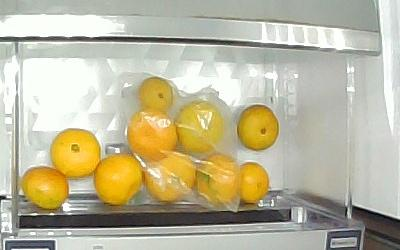tangerine: (50, 128, 101, 178), (94, 153, 142, 205), (19, 166, 69, 211), (237, 104, 280, 152), (237, 162, 271, 204)
tangerine_vinyl: (127, 109, 179, 163), (143, 150, 196, 202), (178, 100, 224, 153), (197, 152, 239, 205), (137, 77, 173, 113)
